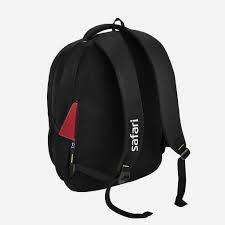backpack: (46, 17, 190, 218)
